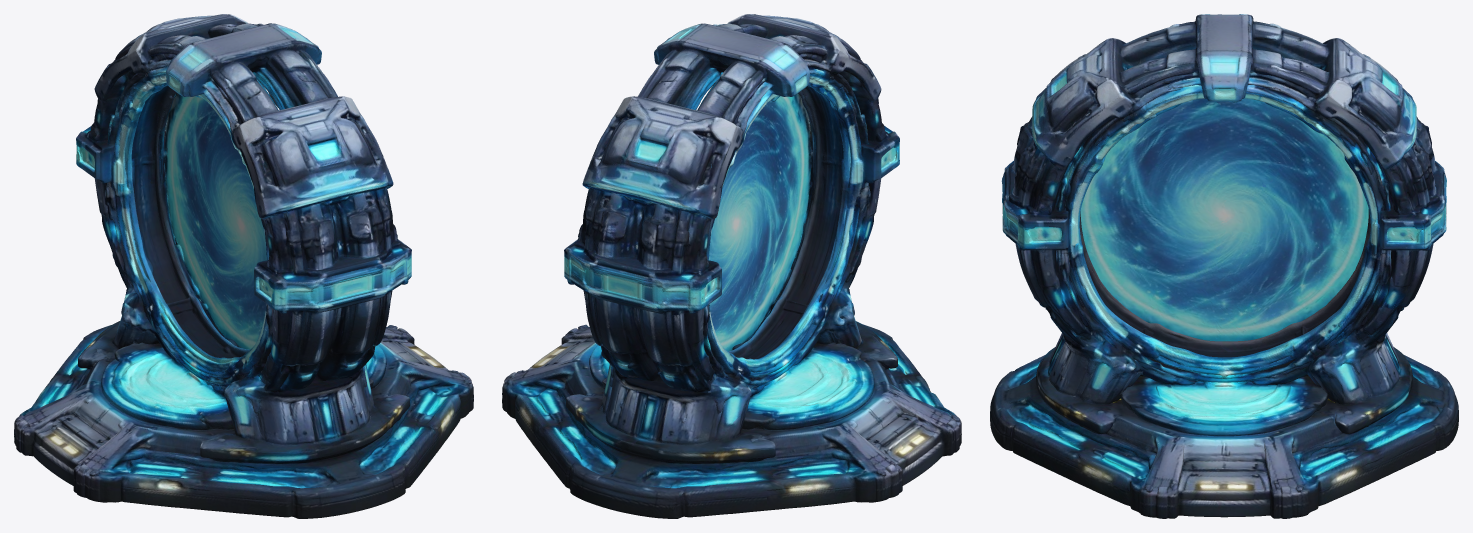
The model's file is pillar.glb.
The picture shows the model from 3 angles, left to right: view 1: azimuth 30°, elevation 25°; view 2: azimuth 150°, elevation 25°; view 3: azimuth 270°, elevation 25°; orthographic projection.
Parts seen in each view (by area): view 1: tripo_node_23898c4a-3d80-44b6-900e-290f95de23d0; view 2: tripo_node_23898c4a-3d80-44b6-900e-290f95de23d0; view 3: tripo_node_23898c4a-3d80-44b6-900e-290f95de23d0.
Part boxes in pixels (x1,y1,x2,y2): tripo_node_23898c4a-3d80-44b6-900e-290f95de23d0: (14, 14, 473, 518); tripo_node_23898c4a-3d80-44b6-900e-290f95de23d0: (502, 14, 961, 518); tripo_node_23898c4a-3d80-44b6-900e-290f95de23d0: (990, 14, 1458, 518).
Bounding box in the file's own units: 0.9764 × 0.9271 × 0.9999.
Materials: 1 (1 with a texture image).
